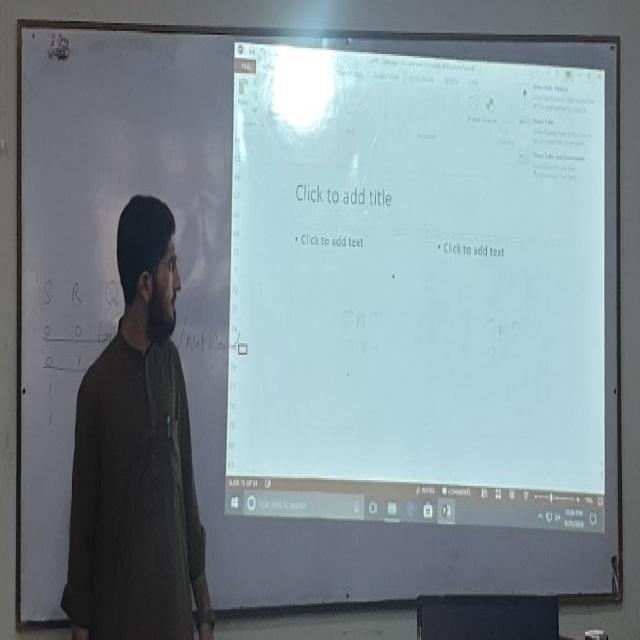Instructor: (80, 178, 203, 636)
Slide: (226, 43, 606, 537)
White-board: (16, 22, 619, 626)
